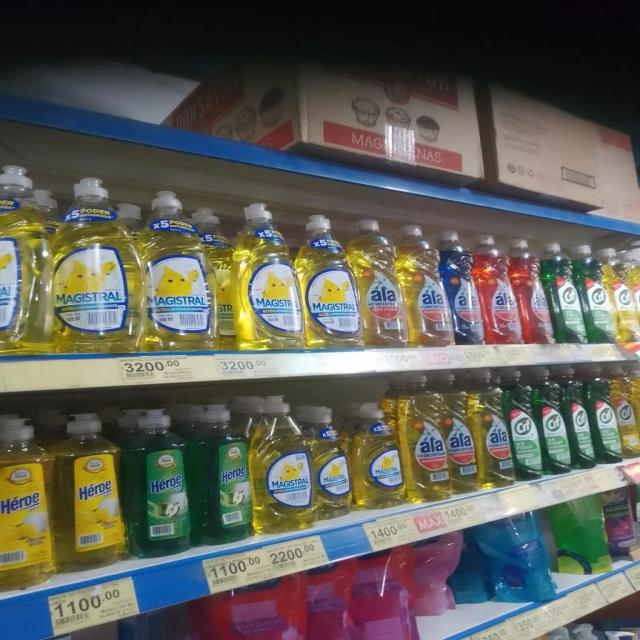ala_conc_amarillo: (361, 216, 404, 348), (405, 224, 449, 348), (404, 391, 448, 502), (477, 378, 512, 488), (448, 390, 478, 494)
ala_conc_azul: (448, 230, 482, 346)
ala_conc_rojo: (481, 235, 519, 346), (517, 238, 550, 346)
cif_conc_bot_amarilla: (613, 248, 636, 344), (616, 366, 638, 460), (633, 249, 640, 343), (633, 365, 640, 458)
cif_conc_botella_verde: (549, 242, 582, 344), (512, 370, 540, 480), (540, 368, 568, 476), (583, 245, 613, 345), (592, 365, 617, 465), (568, 367, 591, 470)
heroe: (0, 415, 53, 592)
magistral_con_amarillo: (234, 202, 299, 351), (0, 162, 47, 354), (301, 213, 360, 349), (253, 396, 311, 534), (352, 399, 402, 510), (311, 404, 351, 520)
